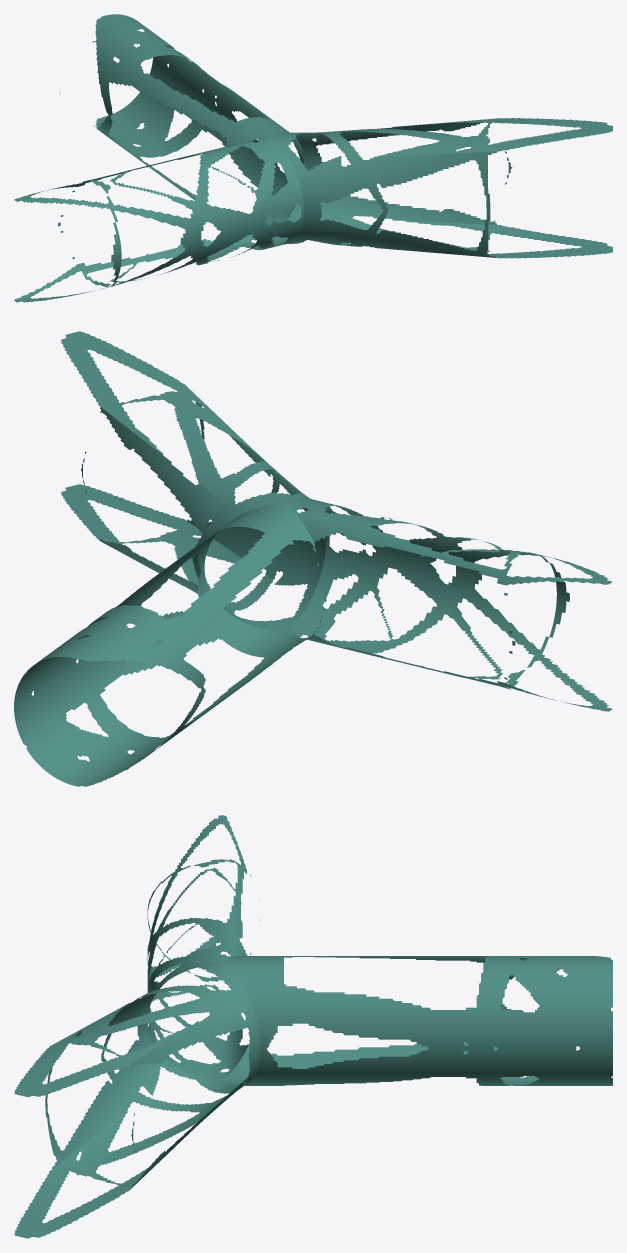
File: tee-optimized.glb
3 renders of one model, top to bottom at view 1: azimuth 30°, elevation 25°; view 2: azimuth 150°, elevation 25°; view 3: azimuth 270°, elevation 25°, orthographic. The views are drawn at different scales.
Parts seen in each view (by area): view 1: world; view 2: world; view 3: world.
Boxes of the visible parts, x1,y1,x2,y2 form: world: (14,14,612,302); world: (14,331,612,786); world: (14,815,612,1238).
Bounding box in the file's own units: 80.09 × 18 × 69.08.
